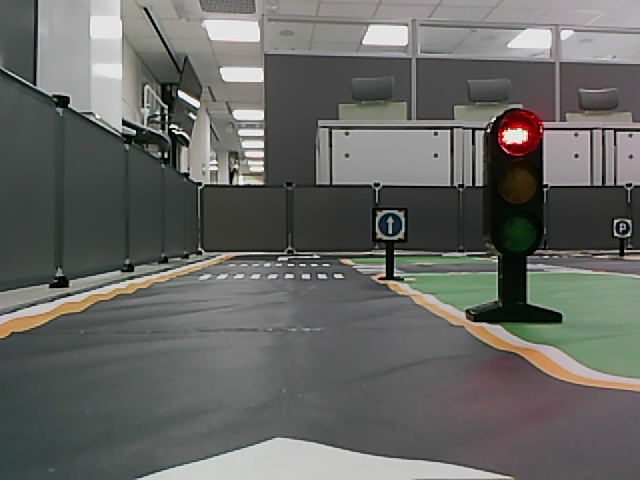crosswalk: (198, 270, 345, 283), (229, 261, 332, 268)
go: (378, 213, 403, 237)
park: (615, 220, 631, 236)
red: (497, 111, 543, 156)
